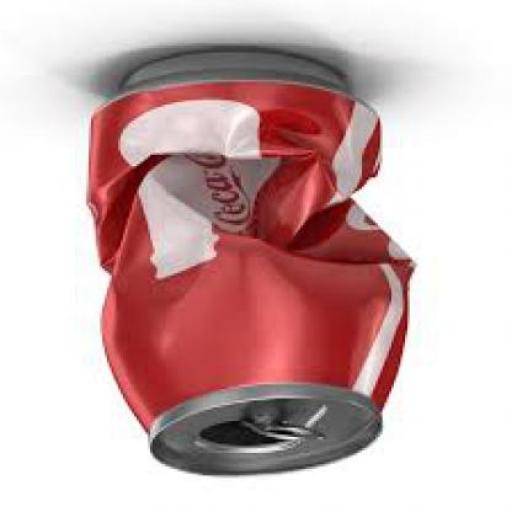metal: (86, 50, 419, 478), (244, 418, 325, 448)
